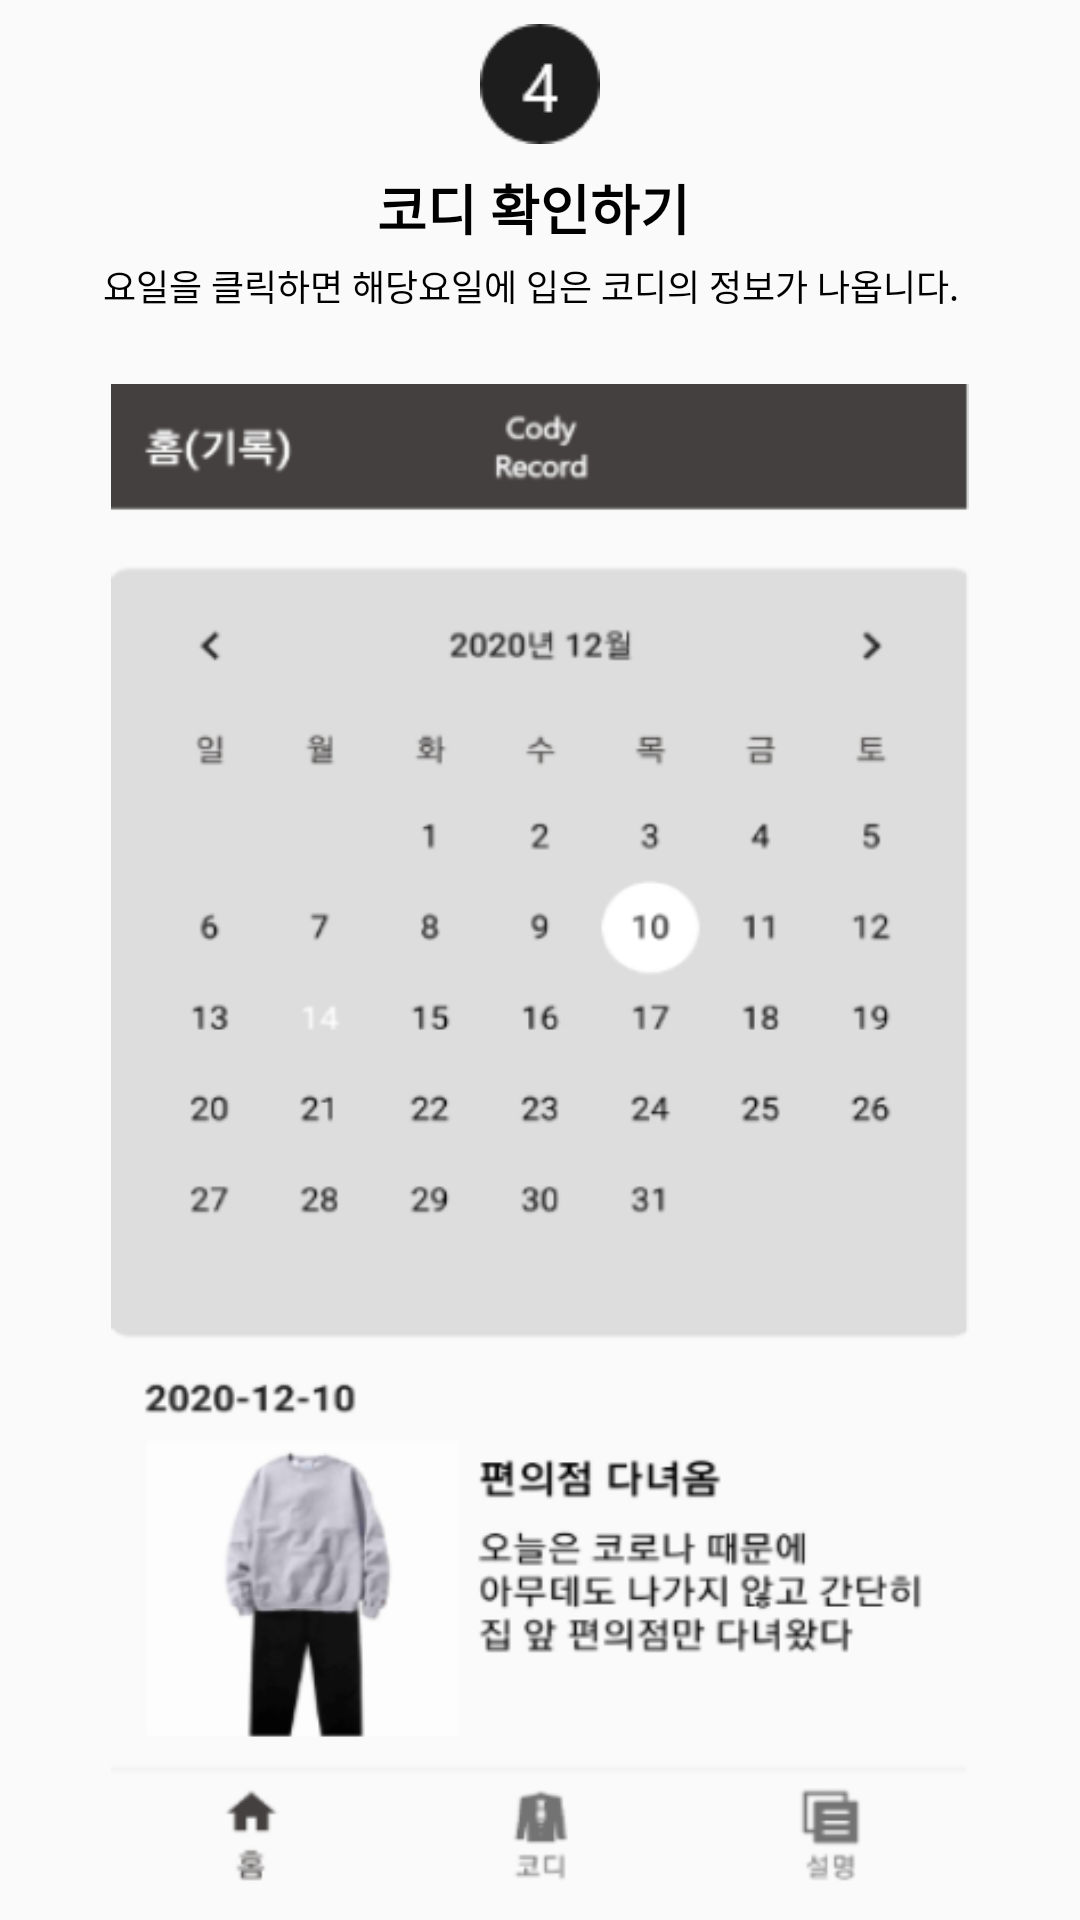

Screen size 1080 x 1920. Icon name, then its center in pixels as (x=x, y=y):
circle four: (x=540, y=84)
